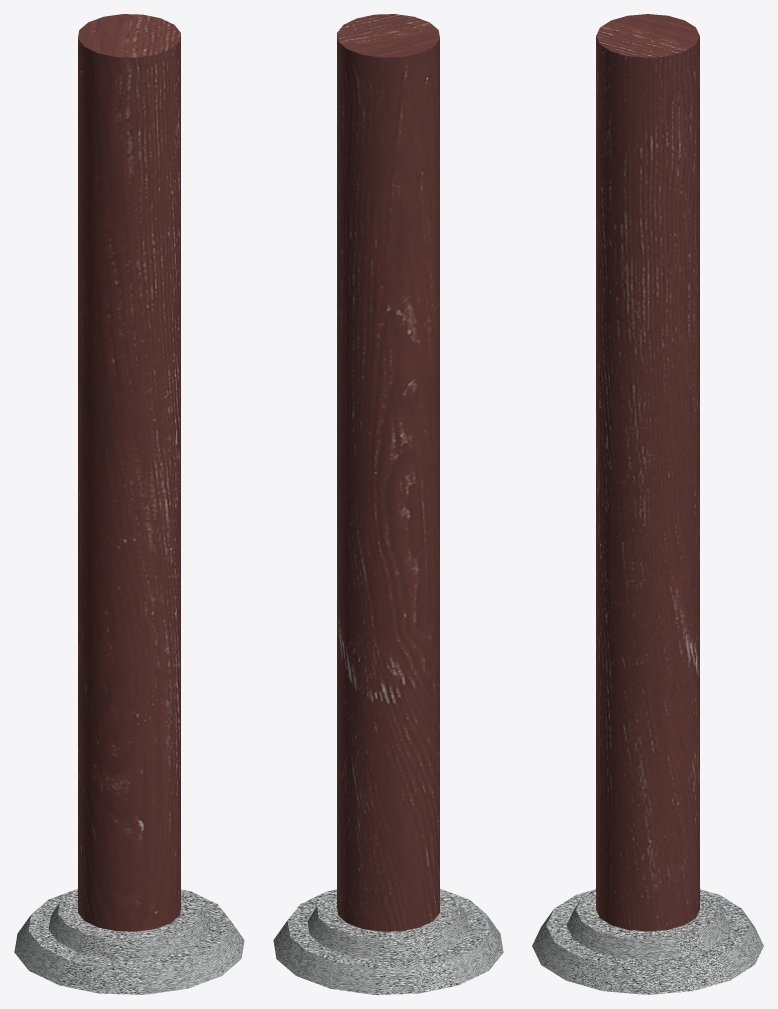
File: SM_Sun_Won_Pillar_A.fbx
3 renders of one model, left to right at view 1: azimuth 30°, elevation 25°; view 2: azimuth 150°, elevation 25°; view 3: azimuth 270°, elevation 25°, orthographic.
Visible parts, largest first — view 1: SM_Sun_Won_Pillar_A; view 2: SM_Sun_Won_Pillar_A; view 3: SM_Sun_Won_Pillar_A.
Part boxes in pixels (x1,y1,x2,y2): SM_Sun_Won_Pillar_A: (14, 14, 244, 994); SM_Sun_Won_Pillar_A: (273, 14, 503, 994); SM_Sun_Won_Pillar_A: (532, 14, 763, 994).
Bounding box in the file's own units: 71.36 × 309 × 71.36.
